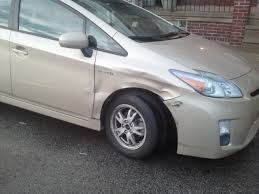Broken-glass: (172, 102, 187, 124)
Dent: (93, 66, 179, 101), (92, 83, 103, 121)
